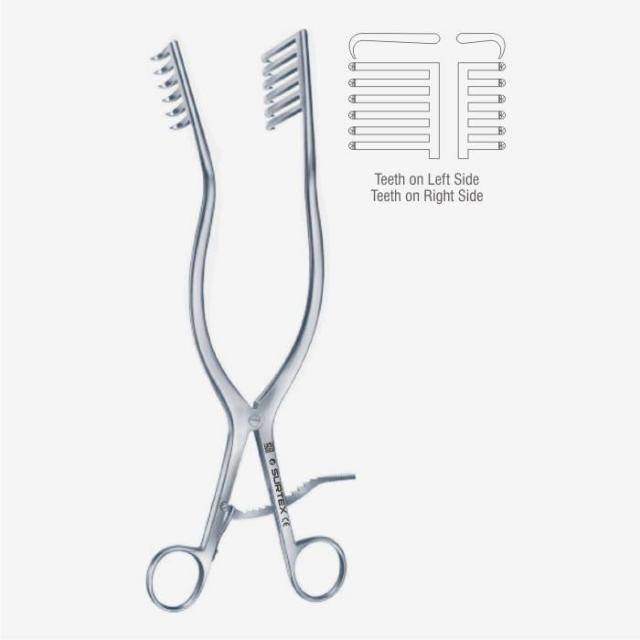Weitlaner: (140, 26, 360, 614)
